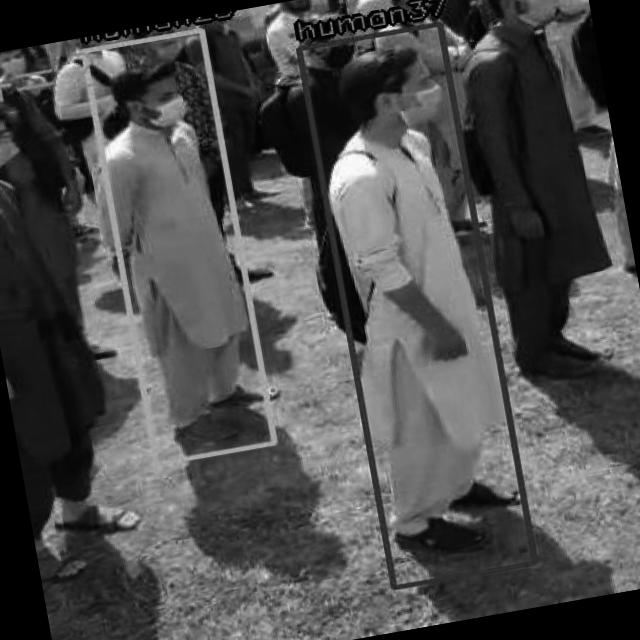person: (295, 21, 534, 588), (80, 28, 273, 464)
